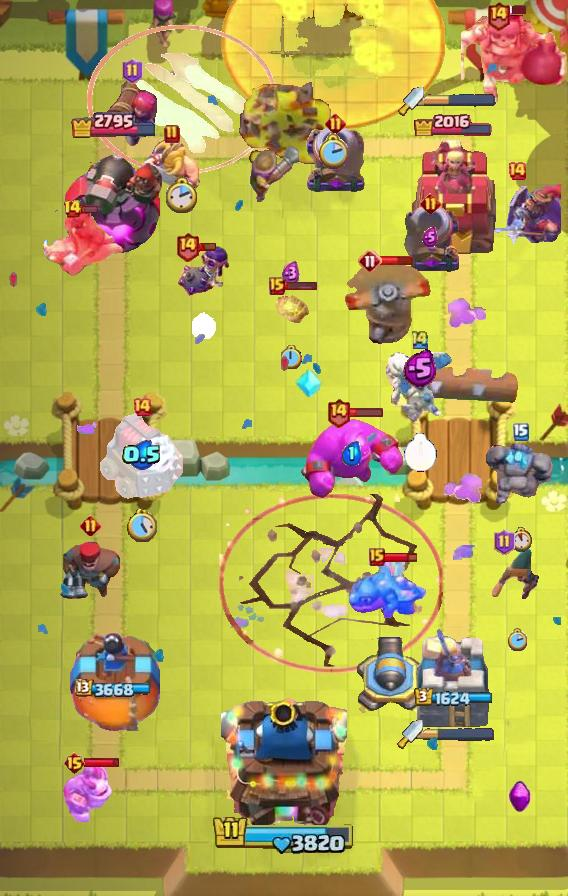bar: (409, 138, 497, 256), (414, 623, 492, 731)
bomb-tower: (247, 145, 299, 203)
clock: (212, 814, 356, 856)
clone: (297, 418, 405, 500)
dark-prince: (343, 261, 433, 347)
electro-giant: (461, 9, 568, 103)
electro-spirit: (403, 348, 437, 387), (122, 440, 162, 470), (341, 441, 362, 466), (282, 262, 300, 287), (422, 227, 438, 247)
elixir: (166, 176, 199, 216), (404, 432, 437, 471), (317, 133, 347, 169), (127, 510, 157, 543), (192, 311, 216, 339), (509, 528, 533, 553), (282, 345, 303, 369), (507, 629, 527, 652)
elixir-golem-big: (473, 183, 561, 243)
elixir-golem-small: (60, 762, 114, 822)
emote: (382, 552, 417, 565), (83, 756, 120, 767), (282, 280, 318, 291), (348, 406, 384, 417), (380, 255, 414, 266), (508, 5, 528, 16), (197, 241, 217, 252), (81, 204, 100, 214)
freeze: (42, 210, 126, 276)
goblin-ball: (176, 243, 232, 299)
goblin-cage: (303, 125, 367, 195), (398, 205, 462, 275)
goblin-giant: (143, 137, 201, 197)
golem: (99, 411, 185, 501)
graveyard: (347, 556, 431, 620)
guard: (219, 495, 443, 674)
ice-spirit-evolution: (271, 283, 311, 327)
ice-wizard: (87, 25, 277, 175)
king-tower: (221, 690, 347, 826)
king-tower-bar: (424, 93, 496, 107), (423, 727, 495, 741)
mega-minion: (105, 74, 159, 148)
mini-pekka: (383, 349, 457, 425)
minion: (394, 360, 522, 406)
pad_2: (295, 366, 323, 400)
phoenix-egg: (219, 0, 445, 130)
phoenix-small: (57, 539, 123, 601)
queen-tower: (68, 633, 160, 731)
royal-recruit: (355, 635, 427, 719)
selected: (70, 110, 158, 138), (414, 112, 495, 137), (414, 687, 494, 707), (75, 679, 153, 699)
skeleton-king-skill: (509, 780, 532, 814)
tesla: (492, 547, 542, 603)
text: (486, 0, 511, 31), (176, 231, 201, 262), (325, 396, 350, 427), (358, 249, 382, 273), (493, 529, 515, 555), (63, 751, 86, 775), (121, 58, 142, 84), (325, 113, 346, 135), (419, 194, 440, 215), (80, 516, 101, 537), (410, 329, 430, 350), (507, 161, 527, 181), (132, 397, 152, 417), (63, 199, 82, 219), (164, 124, 180, 144), (269, 277, 285, 295), (513, 423, 529, 441), (369, 548, 385, 566)
tower-bar: (64, 138, 164, 256)
valkyrie-evolution: (485, 439, 557, 507)
